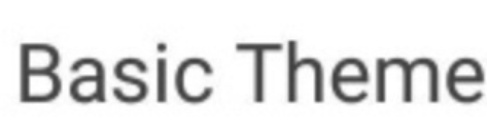TextView: (1, 1, 486, 139)
